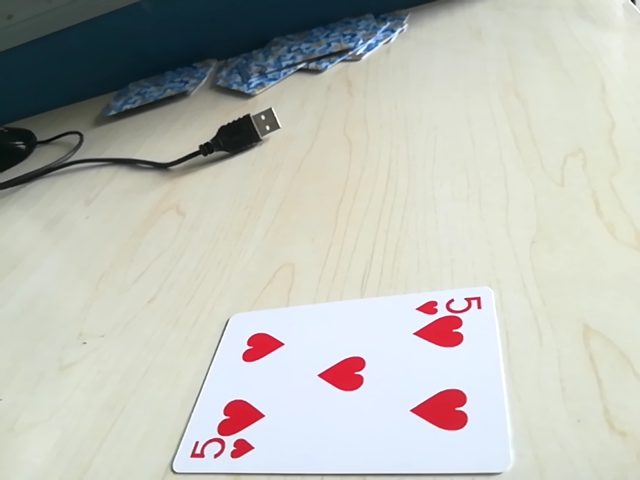hx 5: (415, 290, 490, 321), (187, 436, 257, 468)
